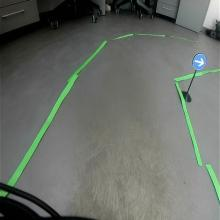right: (192, 54, 207, 70)
